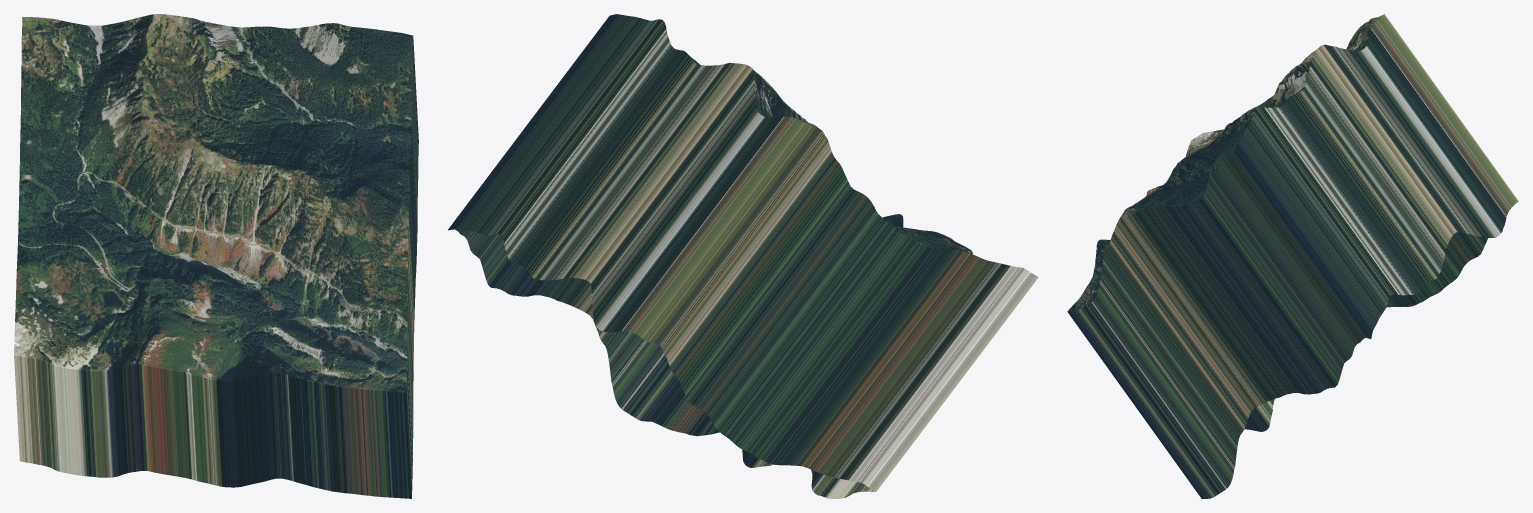
The picture shows the model from 3 angles, left to right: view 1: azimuth 30°, elevation 25°; view 2: azimuth 150°, elevation 25°; view 3: azimuth 270°, elevation 25°; orthographic projection. The views are drawn at different scales.
Size of the model in its own units: 6257 by 5493 by 5872.
Materials: 1 (1 with a texture image).
